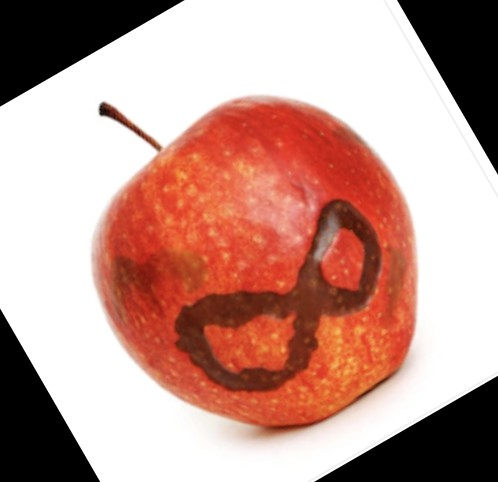rotten_apple: (89, 96, 421, 429)
